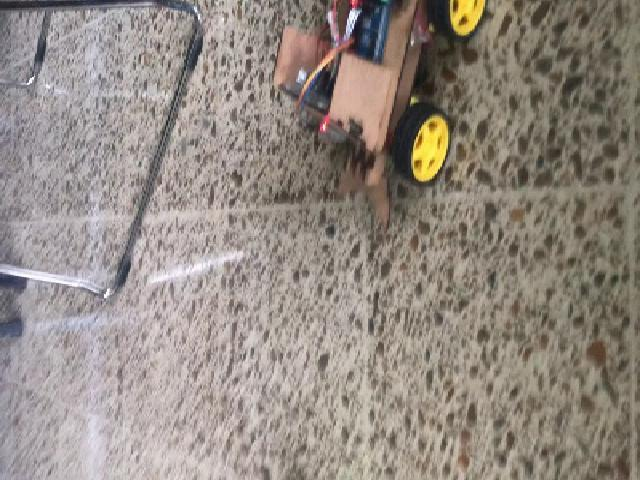Robot: (274, 4, 483, 228)
